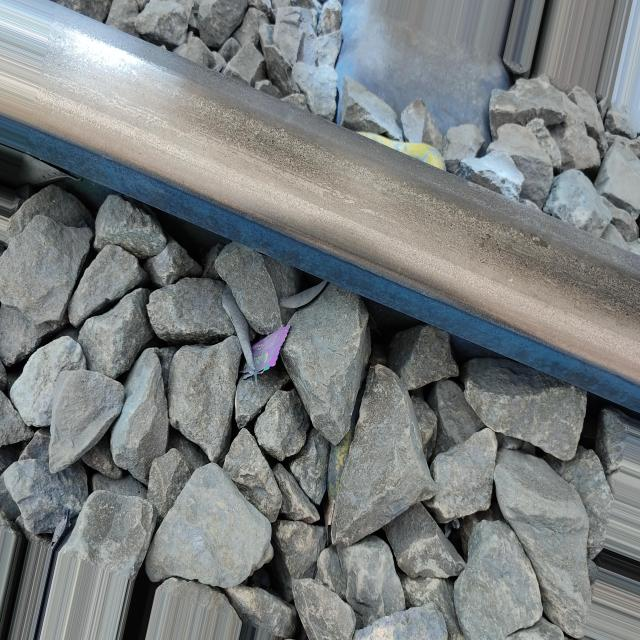non-defective: (1, 2, 638, 413)
